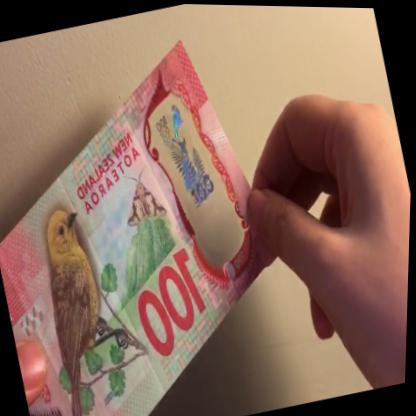100B: (144, 94, 223, 222)
